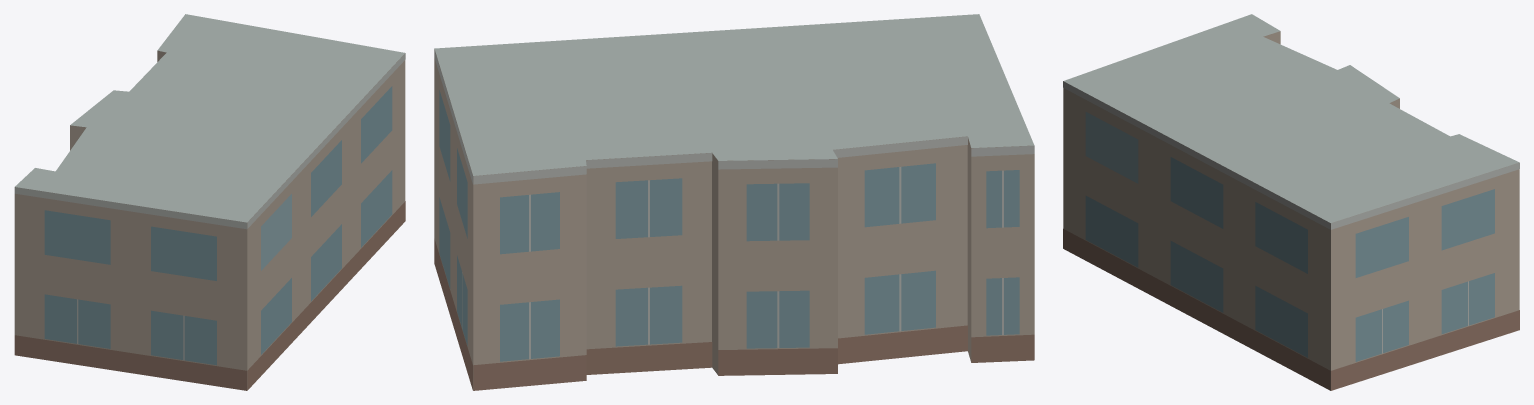
Rendered from survey-upis-32967324.glb.
3 renders of one model, left to right at view 1: azimuth 30°, elevation 25°; view 2: azimuth 150°, elevation 25°; view 3: azimuth 270°, elevation 25°, orthographic. The views are drawn at different scales.
Visible parts, largest first — view 1: survey-upis-32967324.tmp; view 2: survey-upis-32967324.tmp; view 3: survey-upis-32967324.tmp.
Part boxes in pixels (x1,y1,x2,y2): survey-upis-32967324.tmp: [14, 14, 405, 390]; survey-upis-32967324.tmp: [434, 14, 1034, 390]; survey-upis-32967324.tmp: [1063, 14, 1519, 390].
Bounding box in the file's own units: 16.33 × 6.1 × 15.06.
